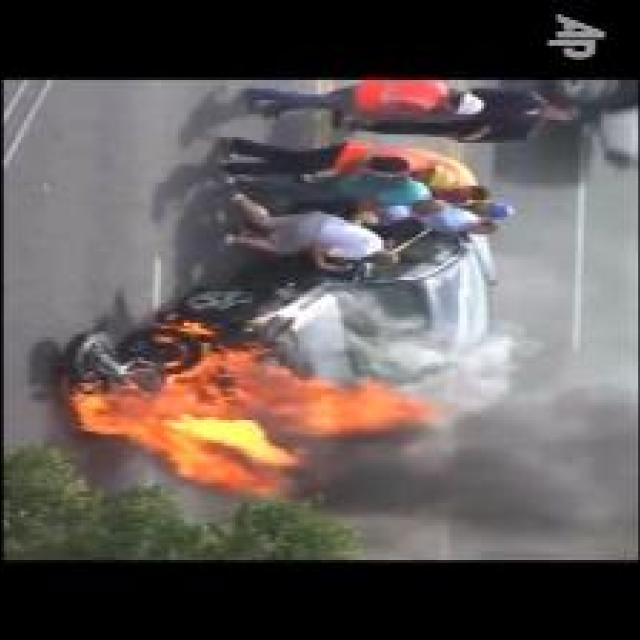Fire: (68, 346, 442, 498)
